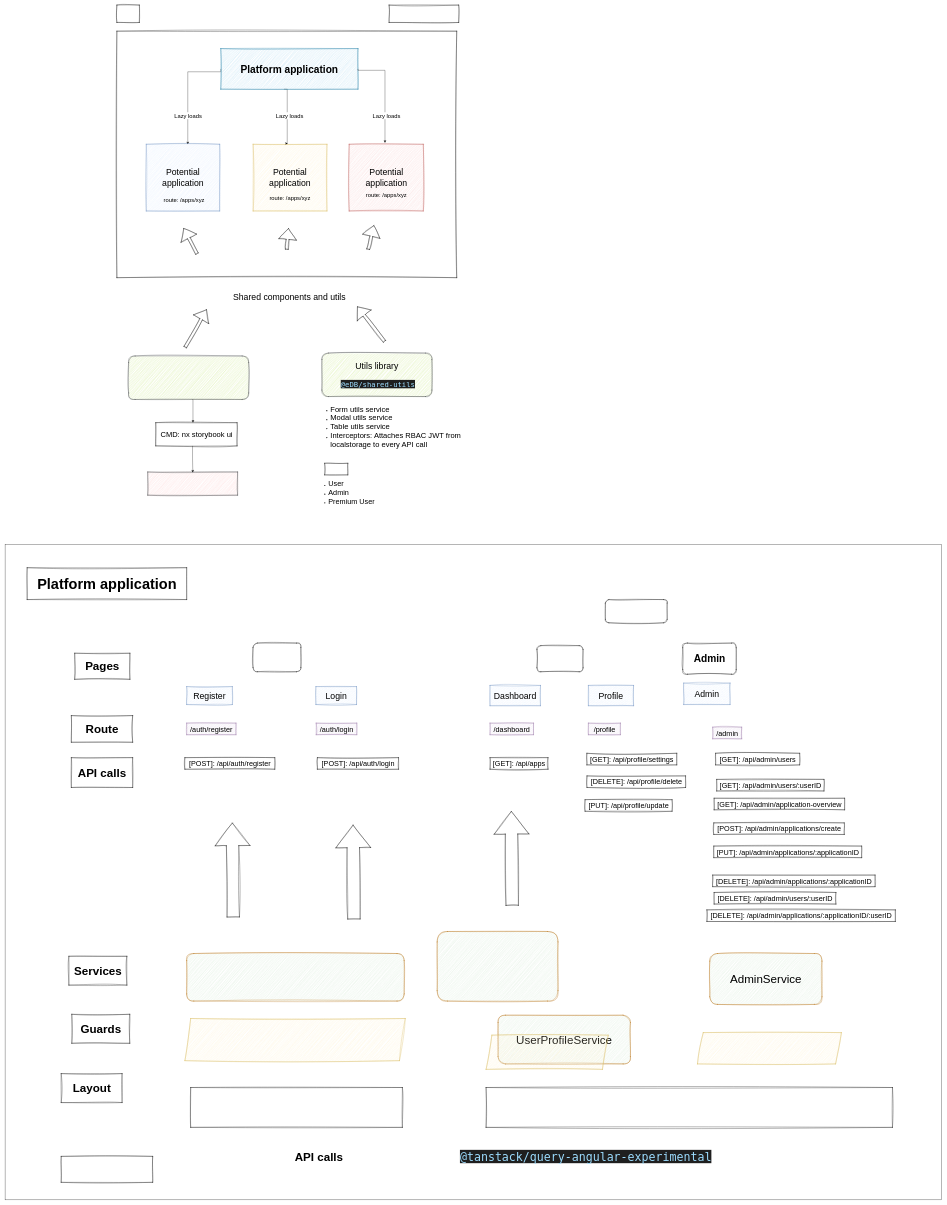
The diagram is 947 pixels wide and 1205 high, and some of its shapes have lost their labels. The shapes that lost their labels are listed below. From the top down, each one's centre as x and y in pixels, then its label:
the point at 128,13: Nx
the point at 424,13: CMD: nx serve eDB
the point at 188,377: UI library @eDB/shared-ui
the point at 192,483: Storybook @localhost:4400
the point at 336,469: Roles
the point at 636,611: Platform
the point at 277,657: Portal
the point at 560,658: User
the point at 295,977: AuthService
the point at 497,966: DashboardService
the point at 295,1039: Unguarded
the point at 547,1052: AuthGuard
the point at 769,1048: AdminGuard
the point at 296,1107: shared portal layout
the point at 689,1107: shared platform layout
the point at 107,1169: Third party libs
